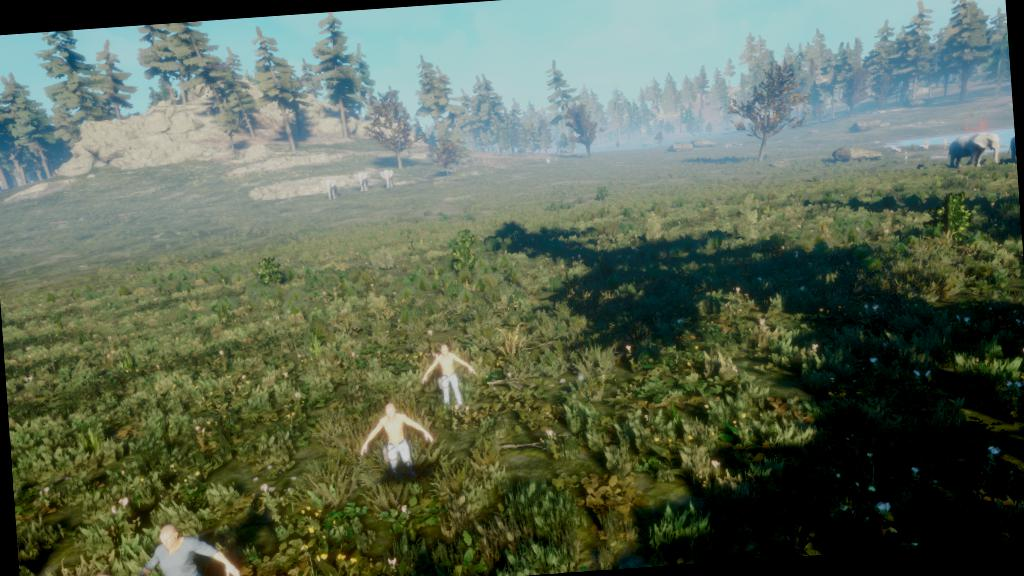elephant: (935, 114, 1005, 172), (353, 164, 380, 200), (379, 165, 407, 193), (324, 174, 344, 206)
human: (113, 507, 259, 575), (345, 398, 442, 484), (416, 323, 490, 415)
